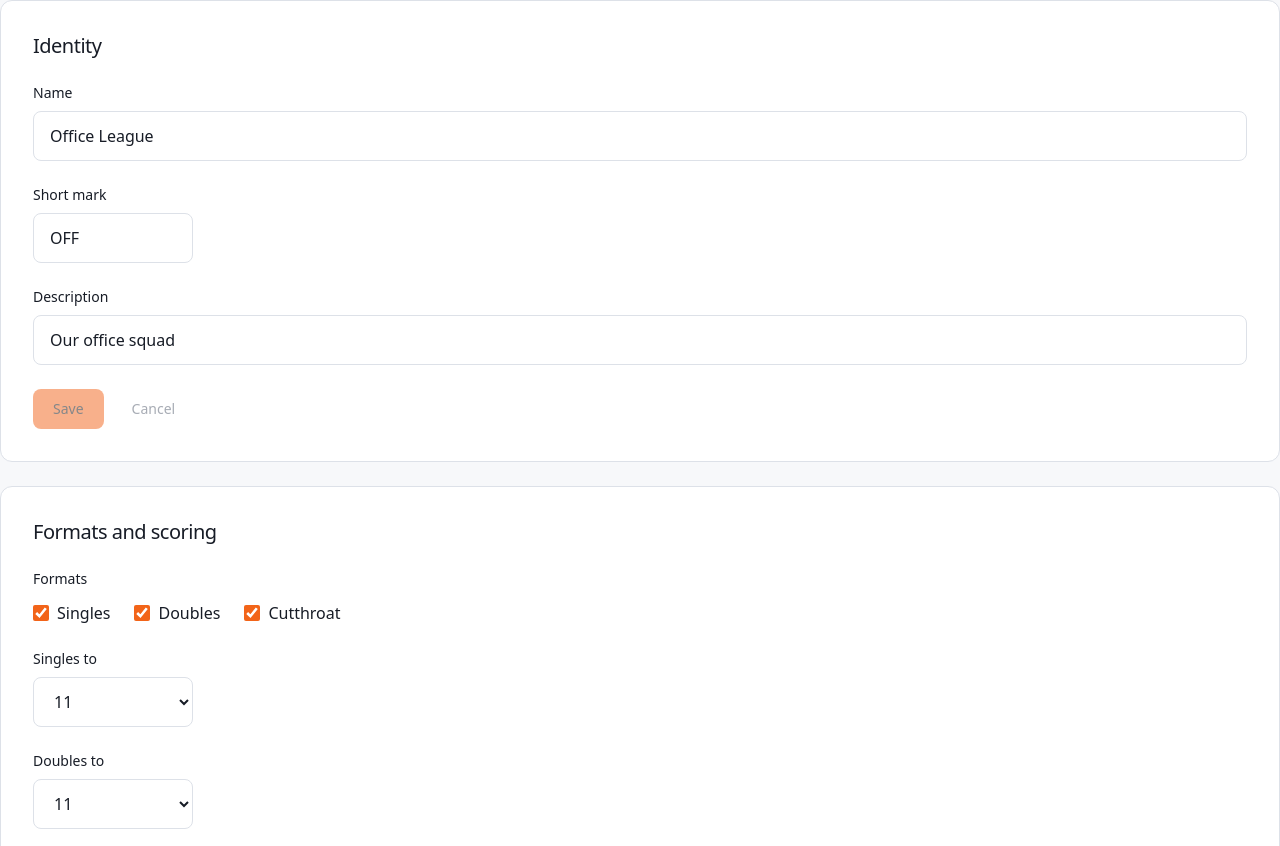
Test: a check that could not be made › shows the comparison when the read it finally makes finds the revision moved
Replace the text in the field with id "setting-name" with "Renamed" at coordinates (640, 136), box [33,111,1247,161]
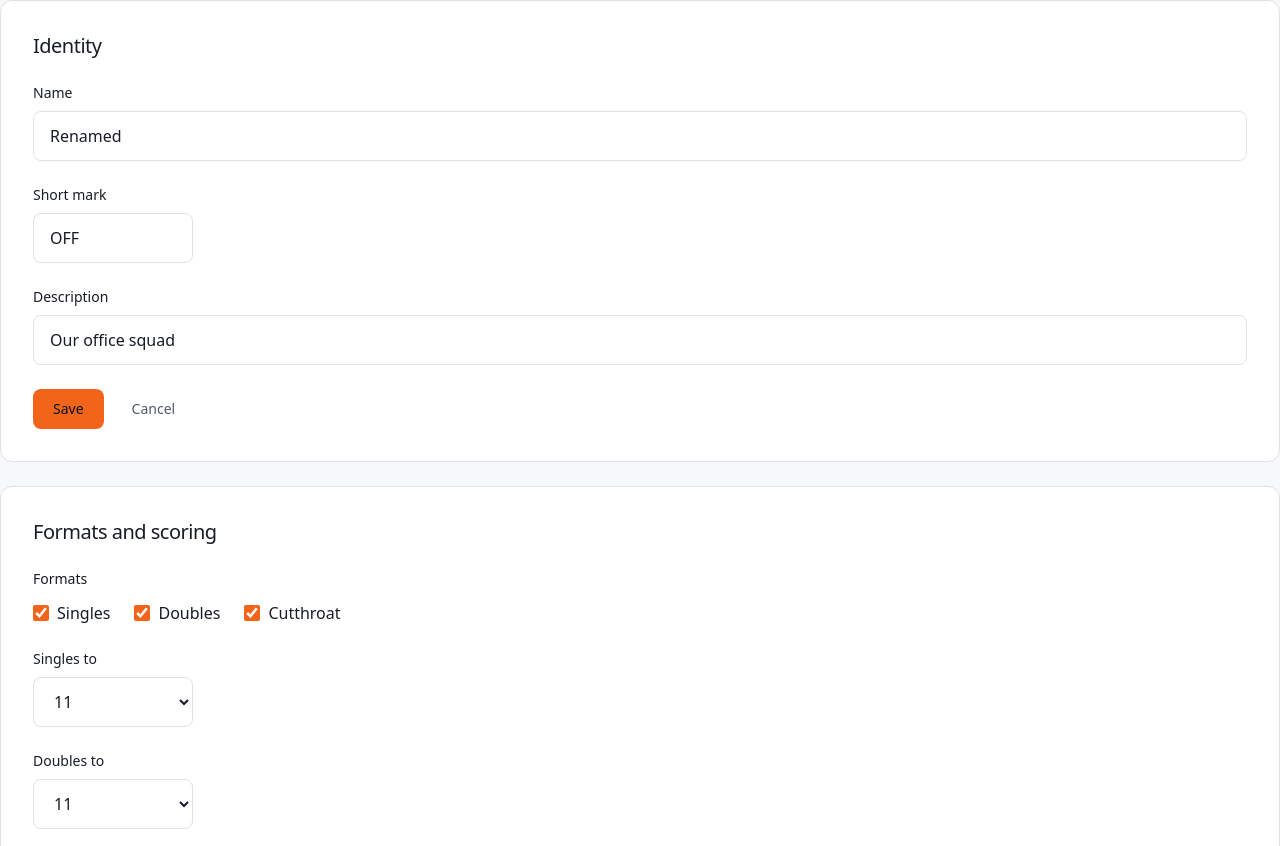
Click the button "Save".
click(68, 409)  # box [33,389,104,429]
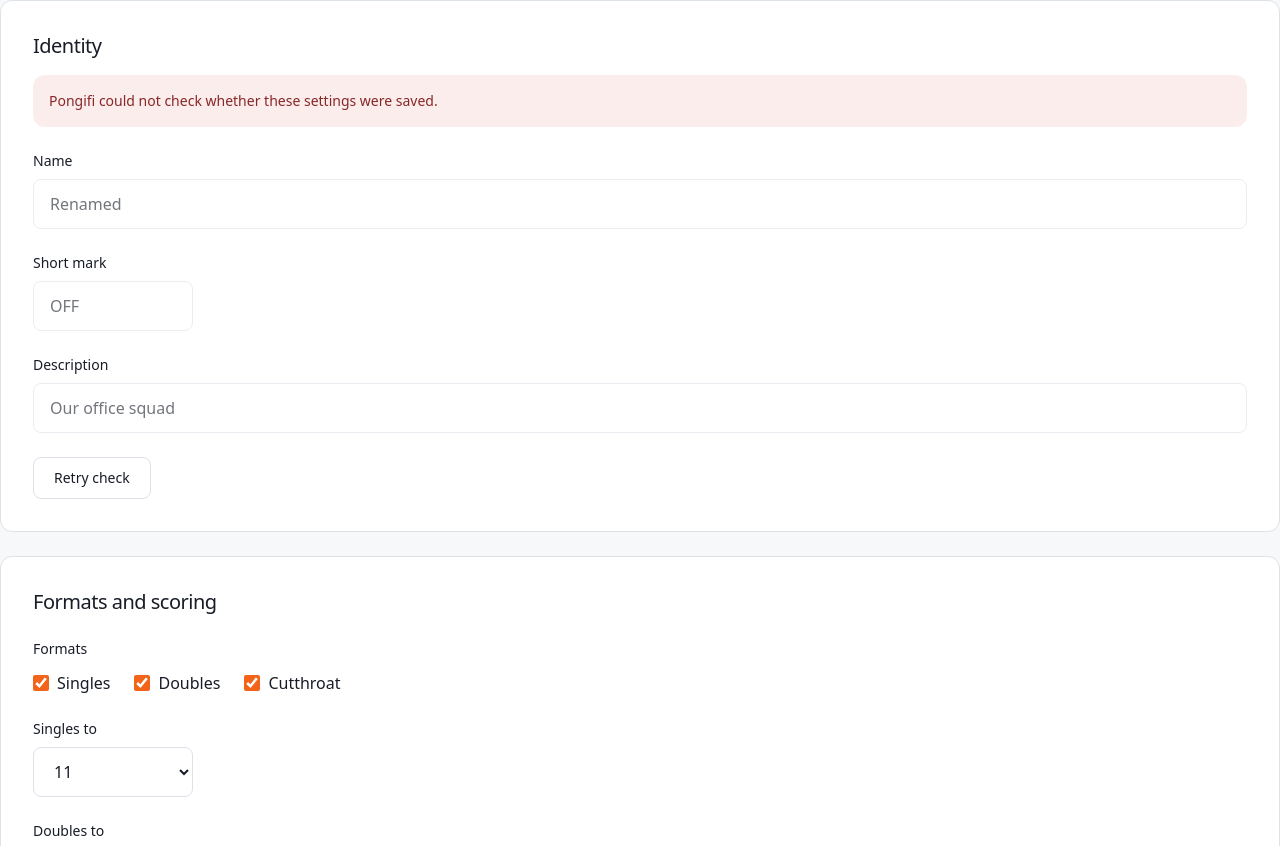
Click the button "Retry check".
click(92, 478)  # box [33,457,151,499]
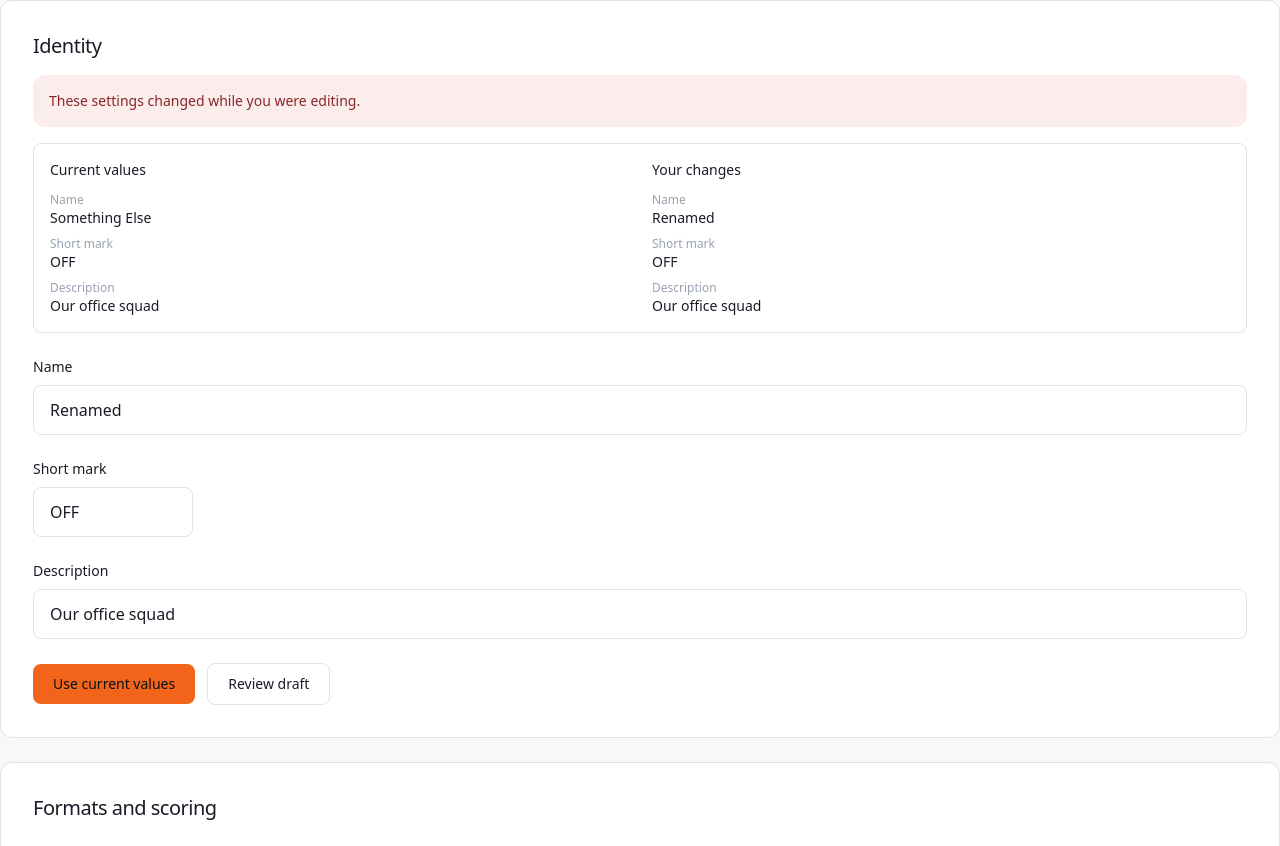
Check: the element that starts with "Identity" shows "These settings changed while you were editing.", box [49,91,360,110]
Check: the button "Use current values" is shown, box [33,664,195,704]
